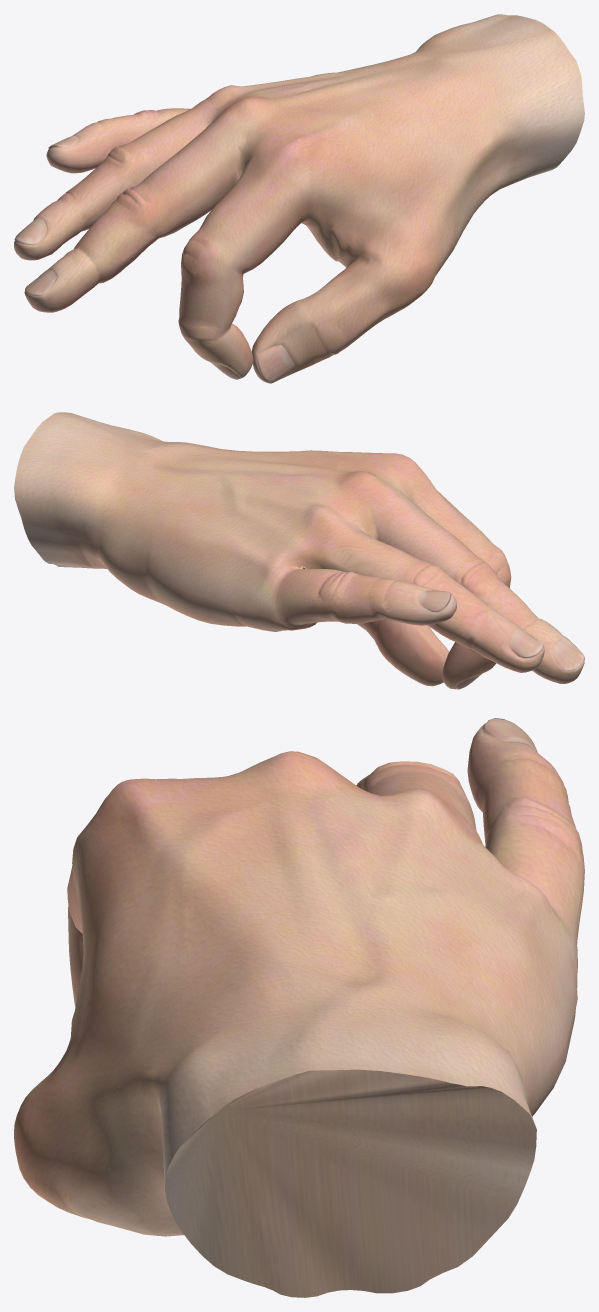
File: hand_15.obj
The picture shows the model from 3 angles, top to bottom: view 1: azimuth 30°, elevation 25°; view 2: azimuth 150°, elevation 25°; view 3: azimuth 270°, elevation 25°; orthographic projection. The views are drawn at different scales.
Visible parts, largest first — view 1: Figure_2; view 2: Figure_2; view 3: Figure_2.
Part boxes in pixels (x1,y1,x2,y2): Figure_2: (14,14,584,383); Figure_2: (14,412,584,689); Figure_2: (14,718,584,1297).
Size of the model in its own units: 0.869 by 0.377 by 0.4144.
Materials: 2 (2 with a texture image).
